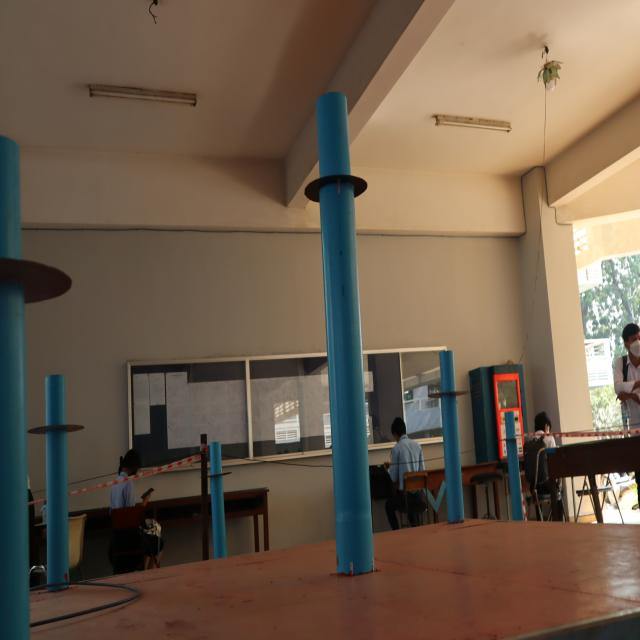pole: (296, 86, 379, 264), (29, 371, 86, 479), (420, 344, 473, 426), (198, 433, 237, 500), (498, 409, 528, 455)
